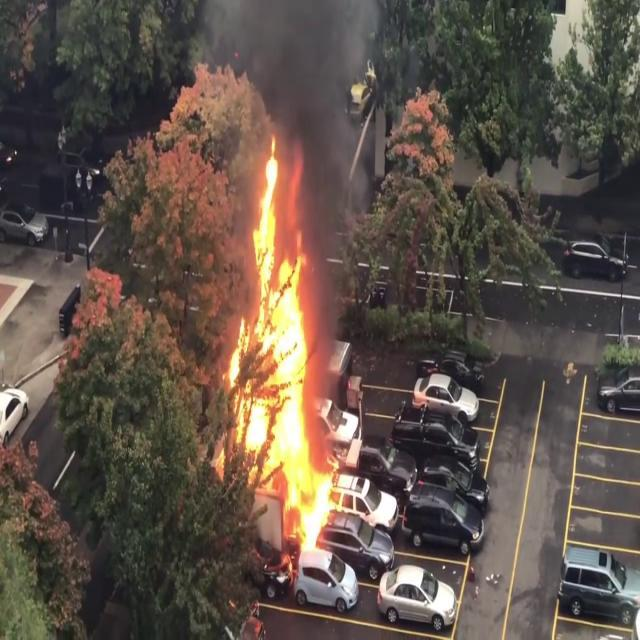Fire: (217, 138, 339, 562)
Smoke: (208, 0, 380, 228)
